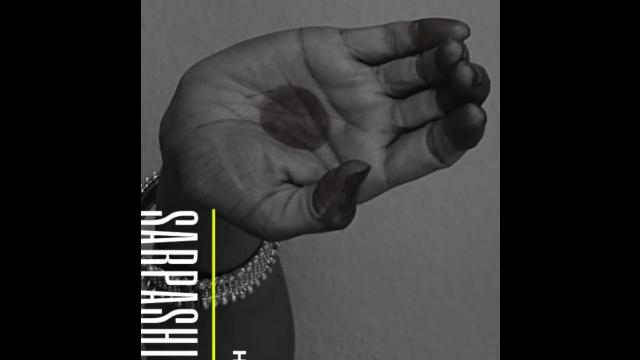sarpsheesh: (162, 0, 492, 258)
